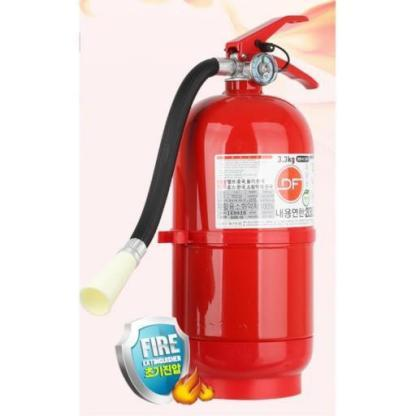Fire Extinguisher: (76, 12, 351, 416)
